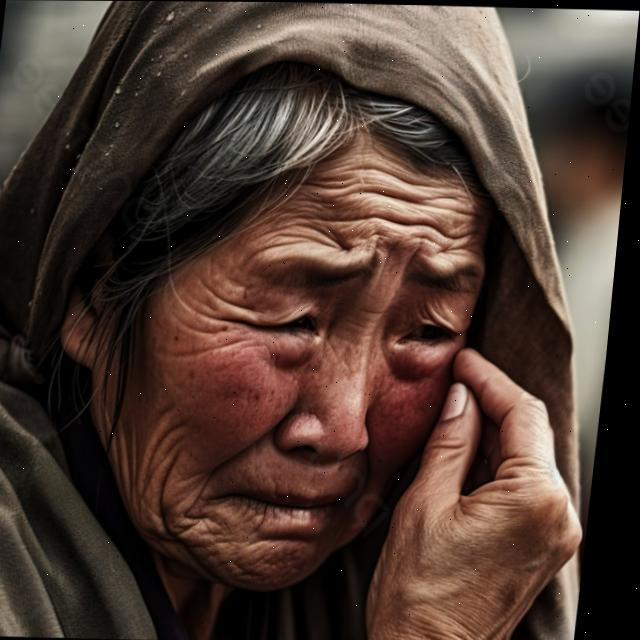sad: (101, 167, 520, 591)
